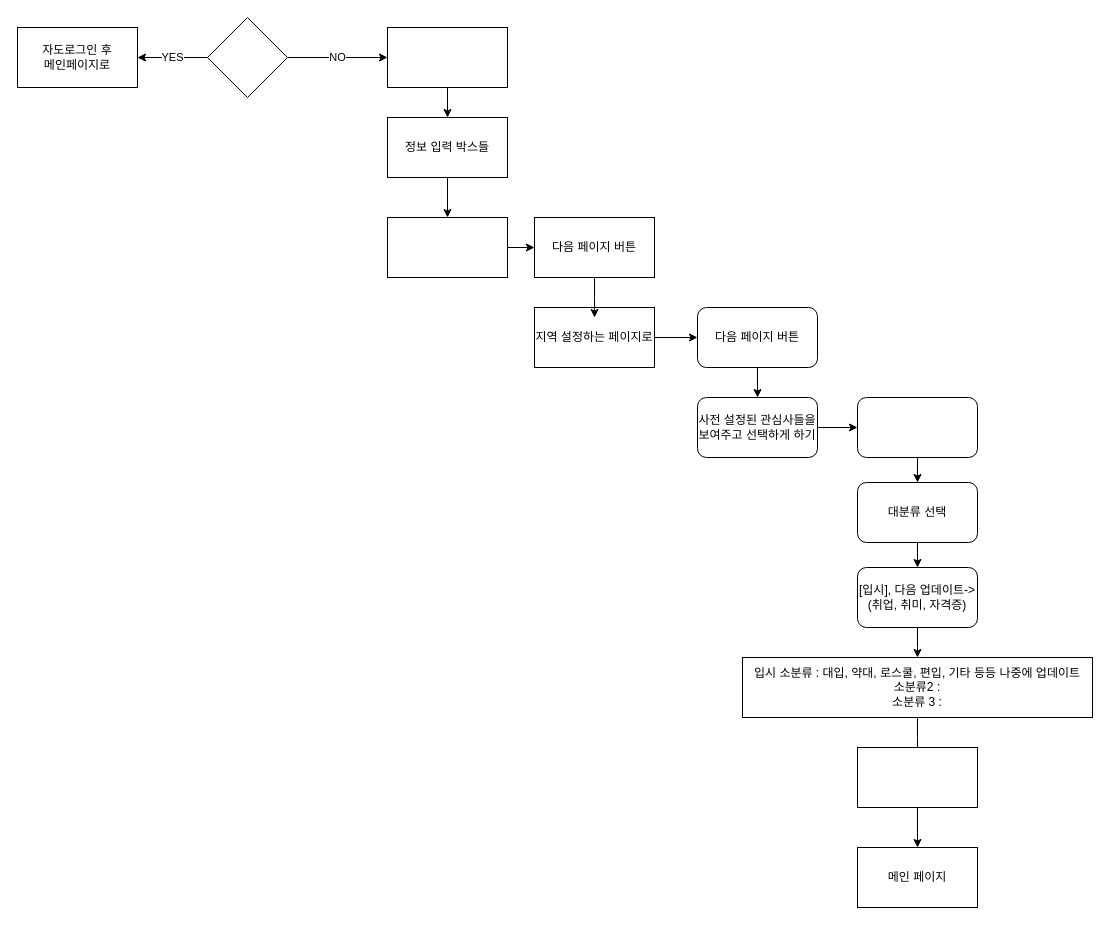
This 1110x925 diagram has some shape labels left out. The centre of each missing label's shape, as x and y in pixels:
관심사 페이지: (917,427)
소분류까지 선택했으면 회원가입 완료 버튼이 활성화: (917,777)
아이디, 비밀번호, 닉네임, 성별: (447,247)
회원?: (247,57)
회원가입 페이지로 이동시키기: (447,57)
